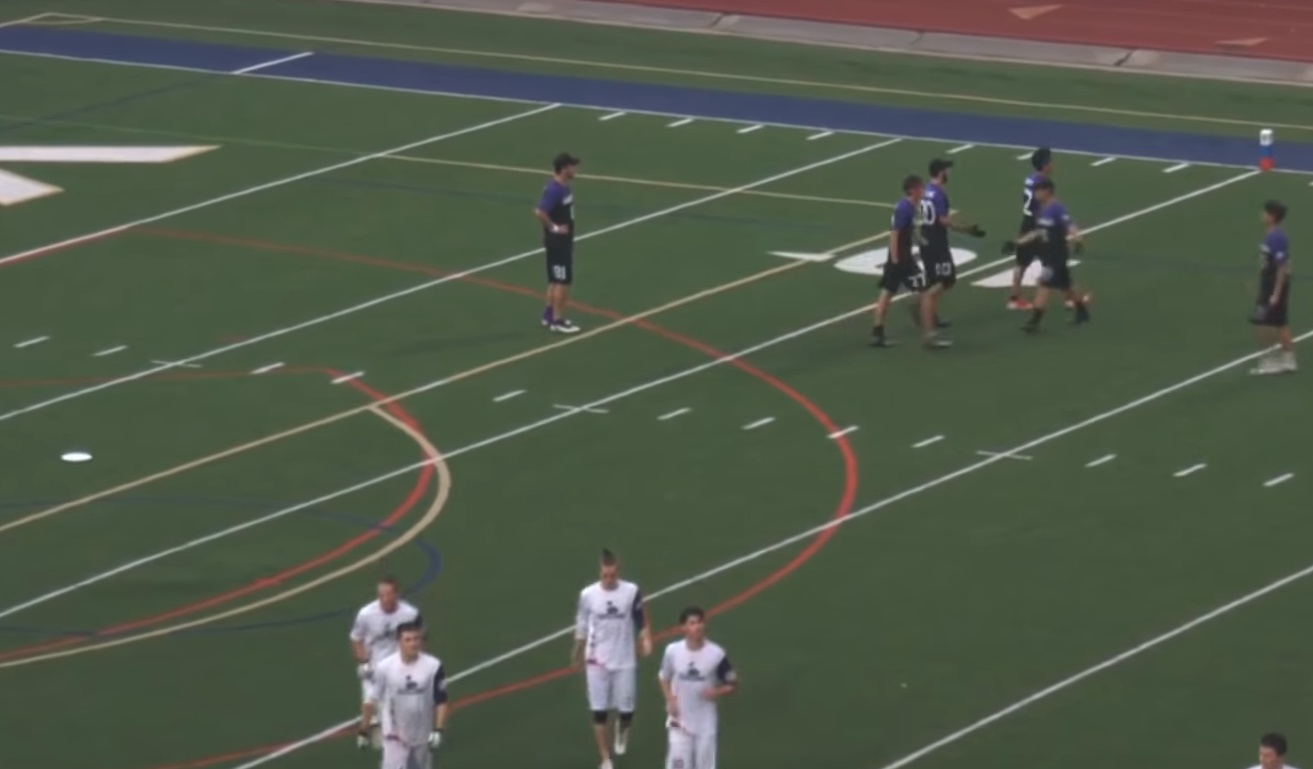frisbee: (60, 452, 93, 462)
